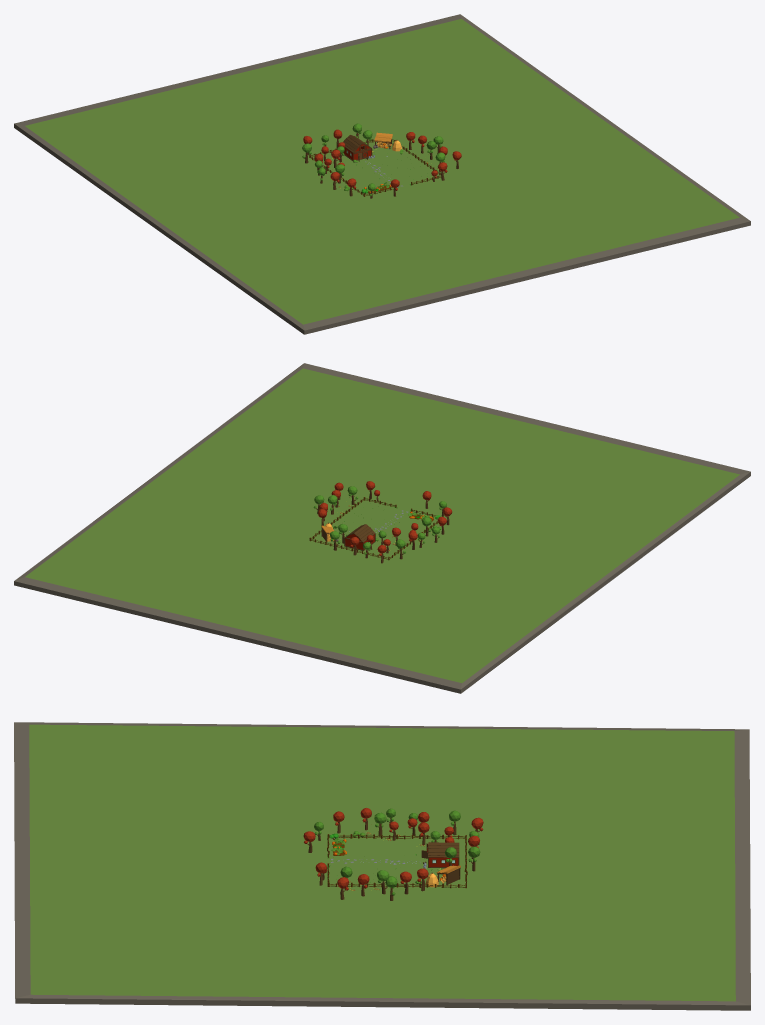
The model's file is ground.glb.
3 views of the same model, one above another, from view 1: azimuth 30°, elevation 25°; view 2: azimuth 150°, elevation 25°; view 3: azimuth 270°, elevation 25° (orthographic). The views are drawn at different scales.
Visible parts, largest first — view 1: terrain, ambar; view 2: terrain; view 3: terrain, ambar.
Part boxes in pixels (x1,y1,x2,y2): terrain: [14, 14, 750, 334]; ambar: [342, 135, 372, 161]; terrain: [14, 363, 750, 693]; terrain: [14, 722, 750, 1010]; ambar: [421, 842, 459, 868].
Size of the model in its own units: 187 by 10.44 by 211.
